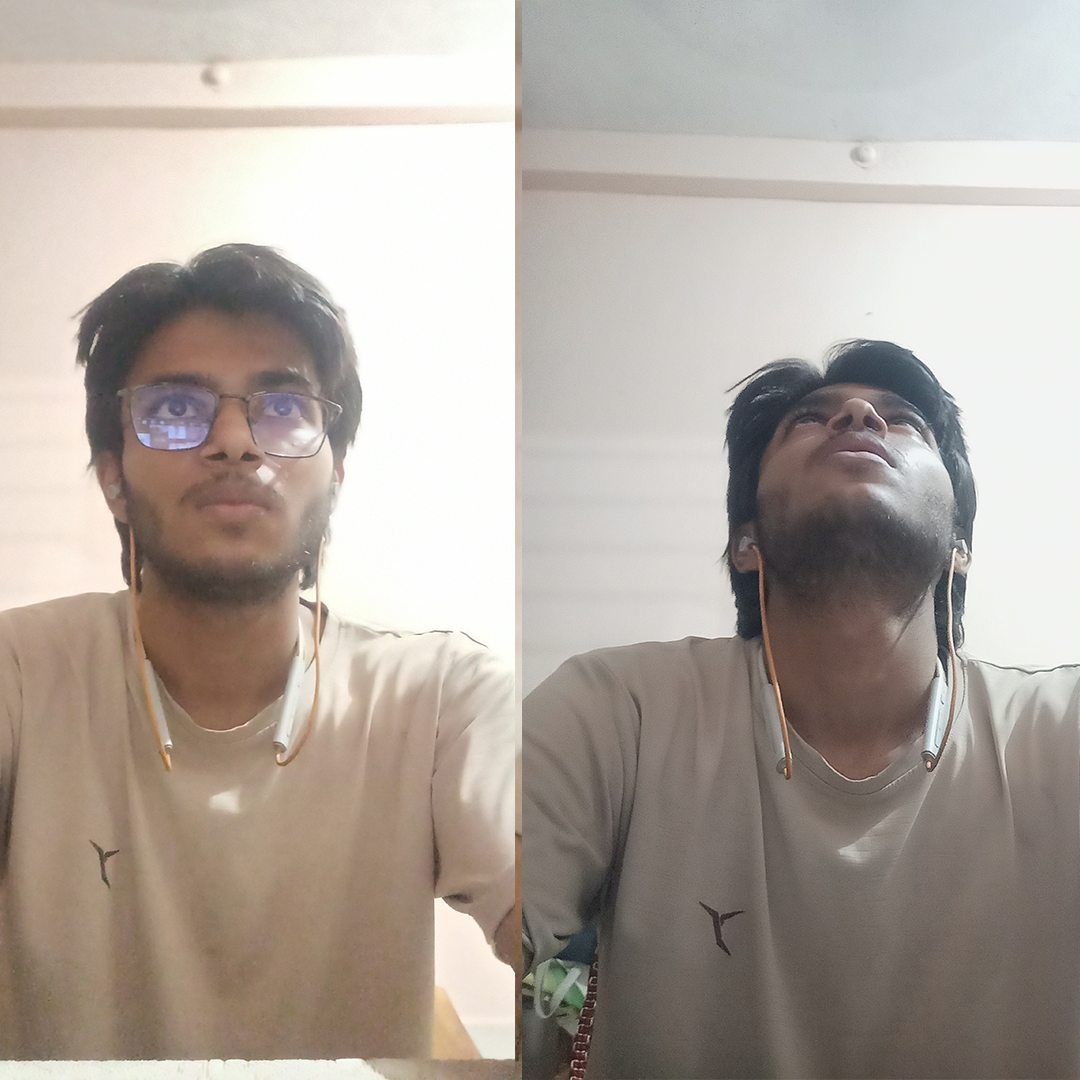Focused: (66, 206, 382, 684)
distracted: (637, 287, 1032, 729)
